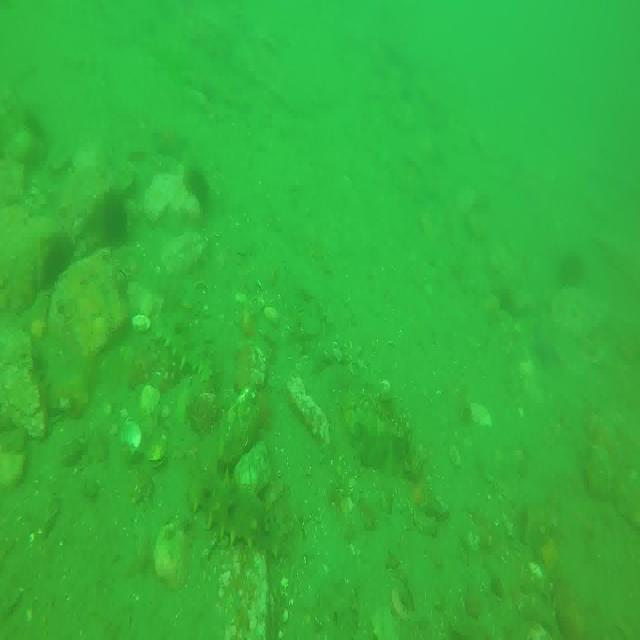echinus: (100, 191, 130, 251), (555, 248, 580, 287)
holothurian: (192, 468, 284, 560), (148, 301, 214, 376)
starfish: (529, 308, 565, 370)
